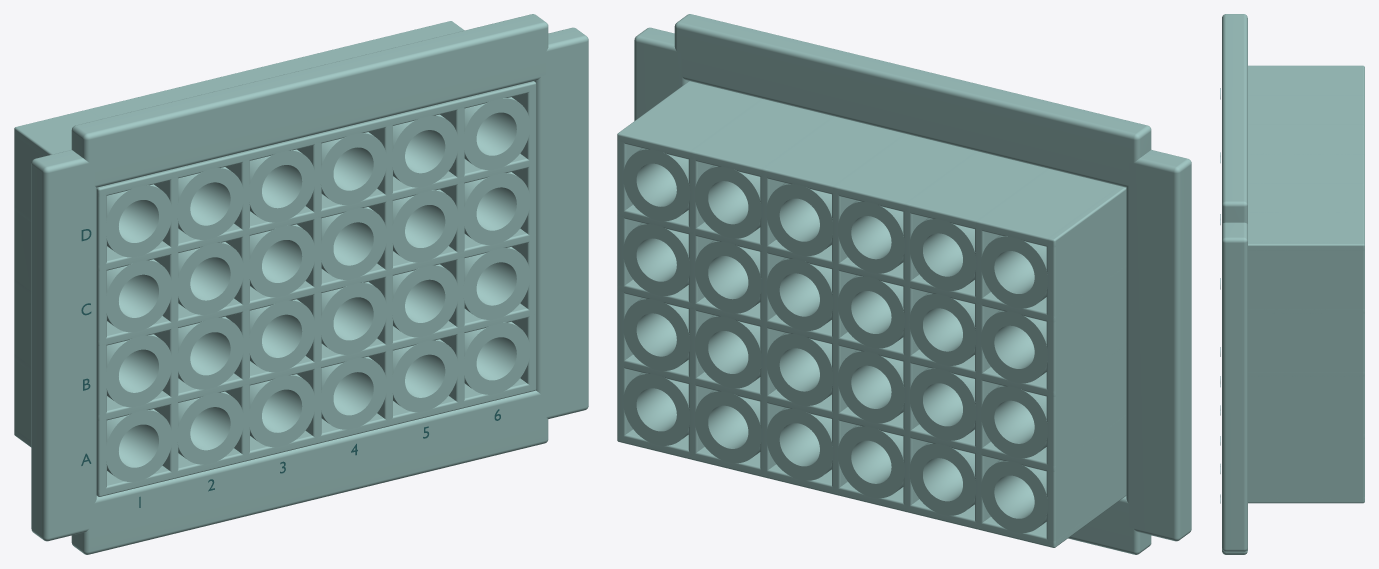
Rendered from socket_insert.glb.
3 renders of one model, left to right at view 1: azimuth 30°, elevation 25°; view 2: azimuth 150°, elevation 25°; view 3: azimuth 270°, elevation 25°, orthographic. The views are drawn at different scales.
Parts seen in each view (by area): view 1: insert_rail_rear, insert_rail_front, insert_rail_left, insert_rail_right, row_rib_4, column_rib_0, row_rib_0, row_rib_3, row_rib_2, row_rib_1, well_C6, well_A2 (+28 smaller); view 2: row_rib_4, insert_rail_rear, column_rib_0, insert_rail_left, row_rib_0, row_rib_2, row_rib_3, row_rib_1, well_B5, well_A5, well_B3, well_A3 (+28 smaller); view 3: column_rib_6, row_rib_4, insert_rail_right, insert_rail_rear, row_rib_2, column_rib_2, column_rib_1, row_rib_0, row_rib_3, column_rib_0, column_rib_3, column_rib_5 (+1 smaller).
Part boxes in pixels (x1=…): insert_rail_rear: x1=71, y1=14, x2=548, y2=187; insert_rail_front: x1=71, y1=390, x2=548, y2=554; insert_rail_left: x1=31, y1=150, x2=96, y2=541; insert_rail_right: x1=534, y1=27, x2=588, y2=418; row_rib_4: x1=14, y1=21, x2=535, y2=196; column_rib_0: x1=14, y1=126, x2=106, y2=496; row_rib_0: x1=14, y1=378, x2=535, y2=496; row_rib_3: x1=14, y1=153, x2=529, y2=271; row_rib_2: x1=14, y1=228, x2=535, y2=345; row_rib_1: x1=14, y1=303, x2=535, y2=420; well_C6: x1=463, y1=172, x2=529, y2=244; well_A2: x1=177, y1=391, x2=243, y2=464; row_rib_4: x1=617, y1=81, x2=1126, y2=247; insert_rail_rear: x1=674, y1=14, x2=1151, y2=187; column_rib_0: x1=1046, y1=186, x2=1126, y2=547; insert_rail_left: x1=1126, y1=150, x2=1191, y2=541; row_rib_0: x1=617, y1=429, x2=1126, y2=547; row_rib_2: x1=617, y1=279, x2=1126, y2=396; row_rib_3: x1=617, y1=204, x2=1126, y2=322; row_rib_1: x1=617, y1=354, x2=1125, y2=471; well_B5: x1=695, y1=315, x2=761, y2=388; well_A5: x1=695, y1=390, x2=761, y2=463; well_B3: x1=838, y1=350, x2=904, y2=423; well_A3: x1=838, y1=425, x2=904, y2=498; column_rib_6: x1=1248, y1=241, x2=1364, y2=503; row_rib_4: x1=1248, y1=65, x2=1364, y2=250; insert_rail_right: x1=1222, y1=222, x2=1247, y2=551; insert_rail_rear: x1=1222, y1=14, x2=1247, y2=224; row_rib_2: x1=1248, y1=372, x2=1364, y2=376; column_rib_2: x1=1248, y1=124, x2=1364, y2=127; column_rib_1: x1=1248, y1=95, x2=1364, y2=98; row_rib_0: x1=1248, y1=497, x2=1364, y2=502; row_rib_3: x1=1248, y1=309, x2=1364, y2=313; column_rib_0: x1=1248, y1=65, x2=1364, y2=68; column_rib_3: x1=1248, y1=153, x2=1364, y2=156; column_rib_5: x1=1249, y1=212, x2=1364, y2=215.
Size of the model in its own units: 0.122 by 0.09 by 0.0334.
